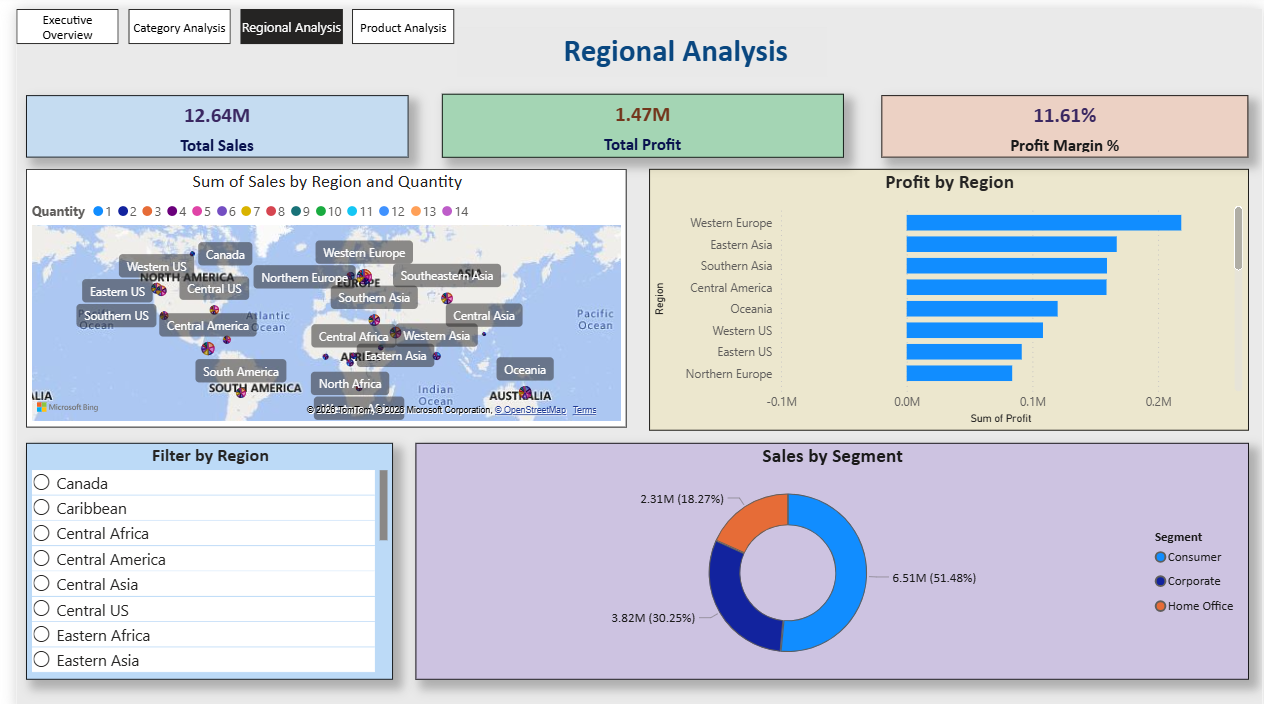

The page's visual inventory and layout, read from the dashboard file:
{"tool":"powerbi","page":{"name":"Regional Analysis","canvas":[1280,720],"ordinal":2},"visuals":[{"type":"card","fields":{"Values":["Sum(Orders.Sales)"]},"box":[10,88.6,392.9,64.3],"z":0},{"type":"textbox","box":[453.3,18.3,380,50],"z":1000},{"type":"card","fields":{"Values":["Sum(Orders.Profit)"]},"box":[437.1,87.1,412.9,65.7],"z":2000},{"type":"card","fields":{"Values":["Orders.Profit Margin %"]},"box":[888.6,88.6,377.1,64.3],"z":3000},{"type":"map","fields":{"Series":["Orders.Quantity"],"Size":["Sum(Orders.Sales)"],"Category":["Orders.Region"]},"box":[10,164.3,617.1,265.7],"z":4000},{"type":"clusteredBarChart","title":"Profit by Region","fields":{"Category":["Orders.Region"],"Y":["Sum(Orders.Profit)"]},"box":[650,164.3,615.7,268.6],"z":5000},{"type":"donutChart","title":"Sales by Segment","fields":{"Category":["Orders.Segment"],"Y":["Sum(Orders.Sales)"]},"box":[410,445.7,855.7,242.9],"z":6000},{"type":"listSlicer","title":"Filter by Region","fields":{"Values":["Orders.Region"]},"box":[10,445.7,377.1,242.9],"z":7000},{"type":"pageNavigator","box":[0,0,453.3,36.7],"z":7001}]}

Visuals, with their boxes in screenshot pixels (x1, y1, x2, y2), scaled from the page's 1280x720 canvas onto the 1264x704 screenshot:
card - Sum(Orders.Sales): 10 87 398 150
textbox: 448 18 823 67
card - Sum(Orders.Profit): 432 85 839 149
card - Orders.Profit Margin %: 877 87 1250 150
map - Orders.Quantity x Sum(Orders.Sales): 10 161 619 420
"Profit by Region" clusteredBarChart: 642 161 1250 423
"Sales by Segment" donutChart: 405 436 1250 673
"Filter by Region" listSlicer: 10 436 382 673
pageNavigator: 0 0 448 36
